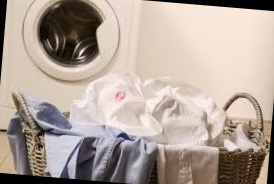lipstick: (111, 86, 129, 104)
